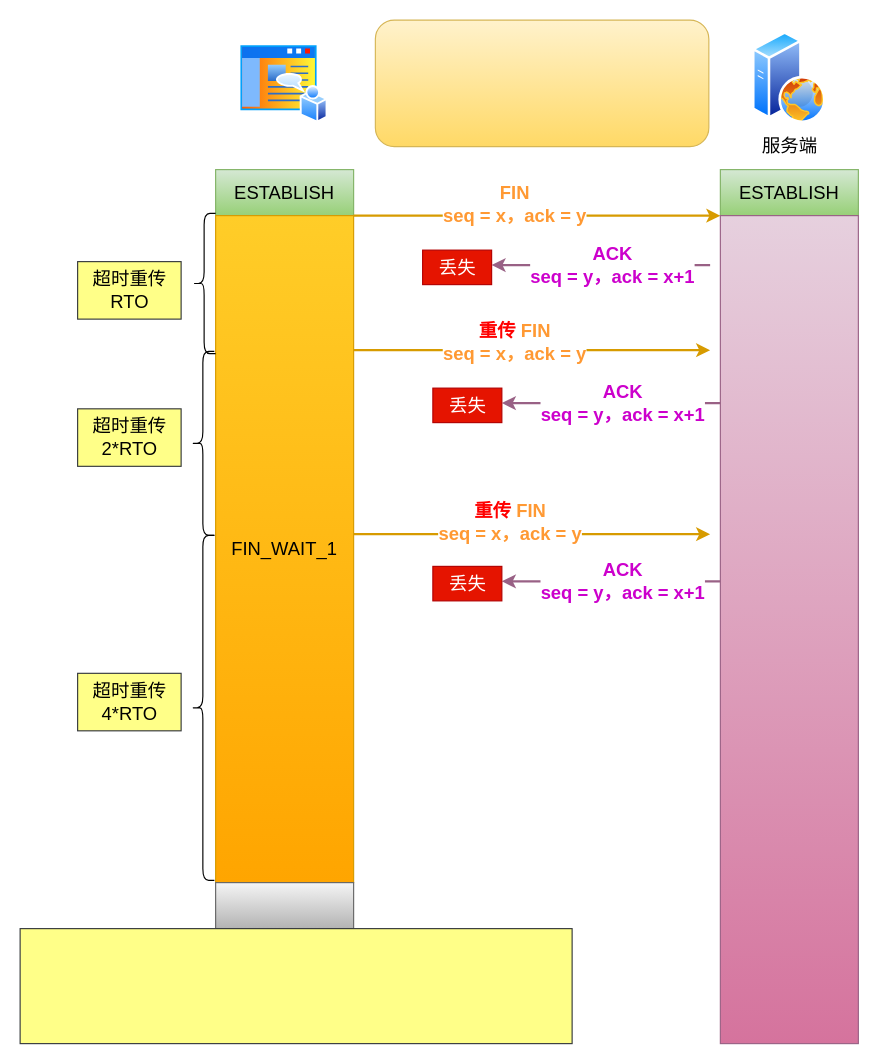
The diagram is 879 pixels wide and 1064 high, and some of its shapes have lost their labels. Each missing label, with the centre of its shape:
"CLOSE" belongs at [284,905].
"CLOSE_WAIT" belongs at [788,629].
"FIN 报文重传次数， 如超过 tcp_orphan_retries 参数的值， 则会在等待一段时间， 还是没能收到第二次挥手的话， 就会断开连接" belongs at [295,985].
"假设 tcp_orphan_retries = 2， 当第二次挥手一直丢失时" belongs at [541,83].
"客户端" belongs at [283,83].
